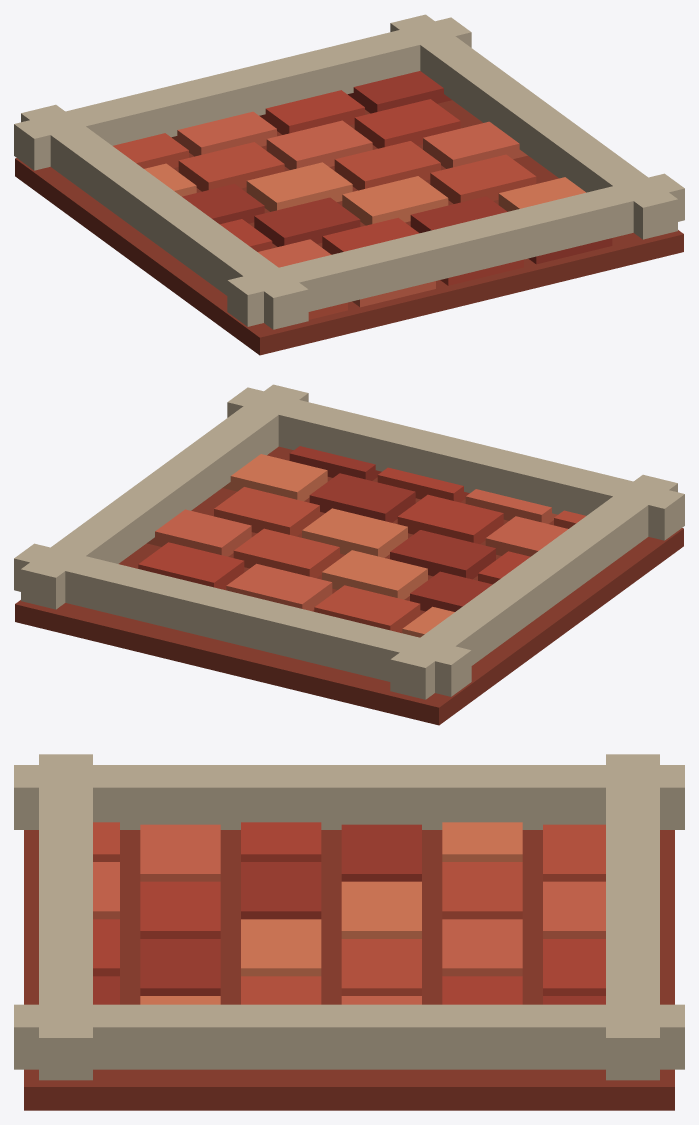
The model's file is vn_path_terracotta.glb.
3 views of the same model, one above another, from view 1: azimuth 30°, elevation 25°; view 2: azimuth 150°, elevation 25°; view 3: azimuth 270°, elevation 25° (orthographic). The views are drawn at different scales.
Visible parts, largest first — view 1: Bed, EdgePZ_0, EdgeNZ_0, EdgeNX_0, EdgePX_0; view 2: Bed, EdgeNZ_0, EdgePZ_0, EdgeNX_0, EdgePX_0; view 3: Bed, EdgePX_0, EdgeNX_0, EdgeNZ_0, EdgePZ_0.
Boxes of the visible parts, x1,y1,x2,y2 form: Bed: [15, 71, 683, 355]; EdgePZ_0: [227, 173, 684, 326]; EdgeNZ_0: [14, 17, 471, 170]; EdgeNX_0: [21, 104, 308, 329]; EdgePX_0: [390, 14, 677, 239]; Bed: [15, 446, 683, 725]; EdgeNZ_0: [14, 543, 471, 696]; EdgePZ_0: [227, 387, 684, 540]; EdgeNX_0: [390, 474, 677, 699]; EdgePX_0: [21, 384, 308, 609]; Bed: [24, 822, 674, 1110]; EdgePX_0: [14, 1004, 684, 1069]; EdgeNX_0: [14, 765, 684, 829]; EdgeNZ_0: [606, 754, 659, 1080]; EdgePZ_0: [39, 754, 92, 1080].
Size of the model in its own units: 0.72 by 0.091 by 0.72.
